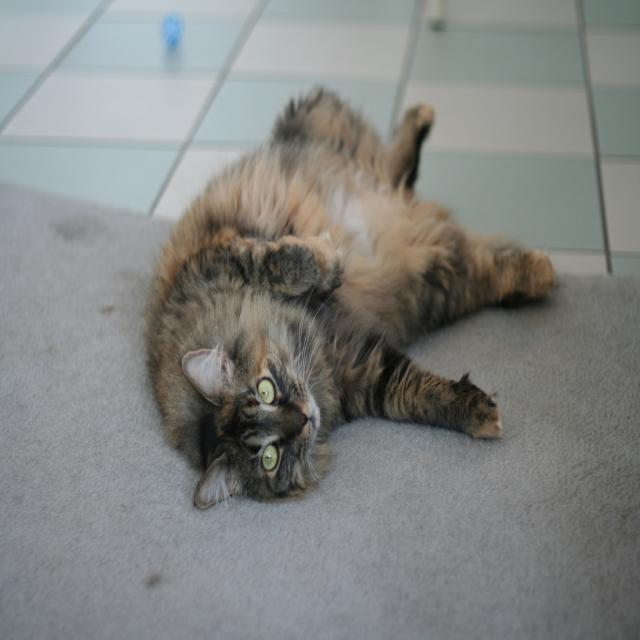left eye: (254, 374, 278, 406)
